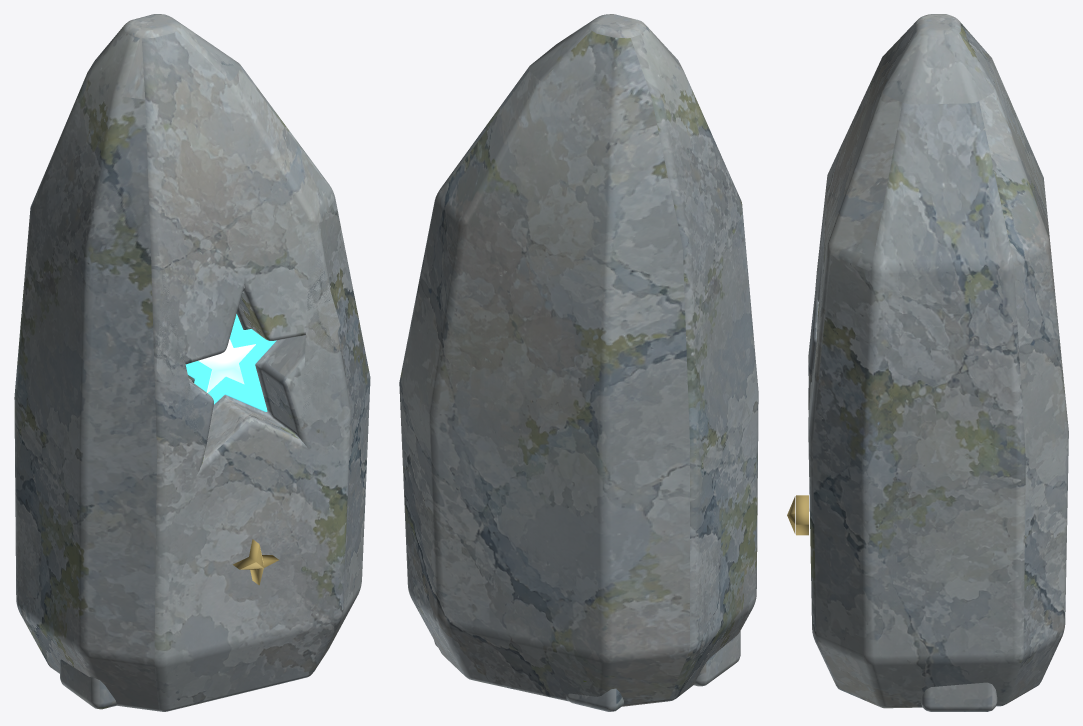
File: SM_SP_StarMenhir_02.fbx
3 renders of one model, left to right at view 1: azimuth 30°, elevation 25°; view 2: azimuth 150°, elevation 25°; view 3: azimuth 270°, elevation 25°, orthographic. The views are drawn at different scales.
Parts seen in each view (by area): view 1: SM_SP_StarMenhir_02; view 2: SM_SP_StarMenhir_02; view 3: SM_SP_StarMenhir_02.
Boxes of the visible parts, box(x1,y1,x2,y2) form: SM_SP_StarMenhir_02: box(14, 14, 370, 711); SM_SP_StarMenhir_02: box(399, 14, 758, 711); SM_SP_StarMenhir_02: box(787, 14, 1068, 711).
Bounding box in the file's own units: 0.8024 × 0.7014 × 1.7.
